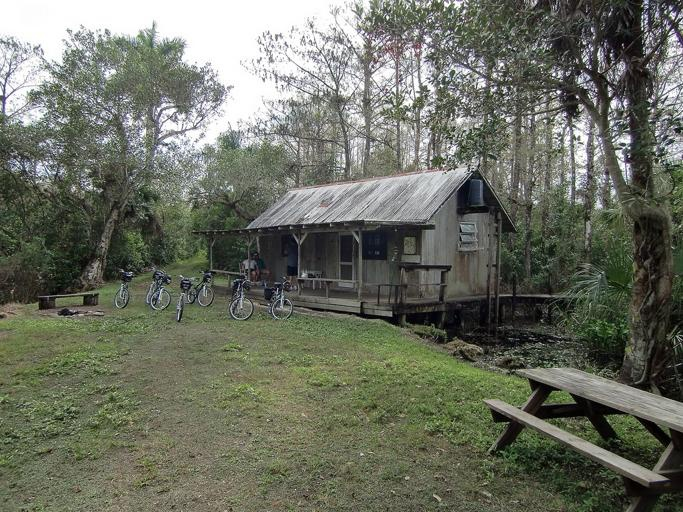non-vehicle: (225, 269, 256, 323), (143, 265, 172, 310), (267, 276, 295, 322), (172, 273, 196, 322), (188, 268, 216, 308), (113, 268, 134, 309)
